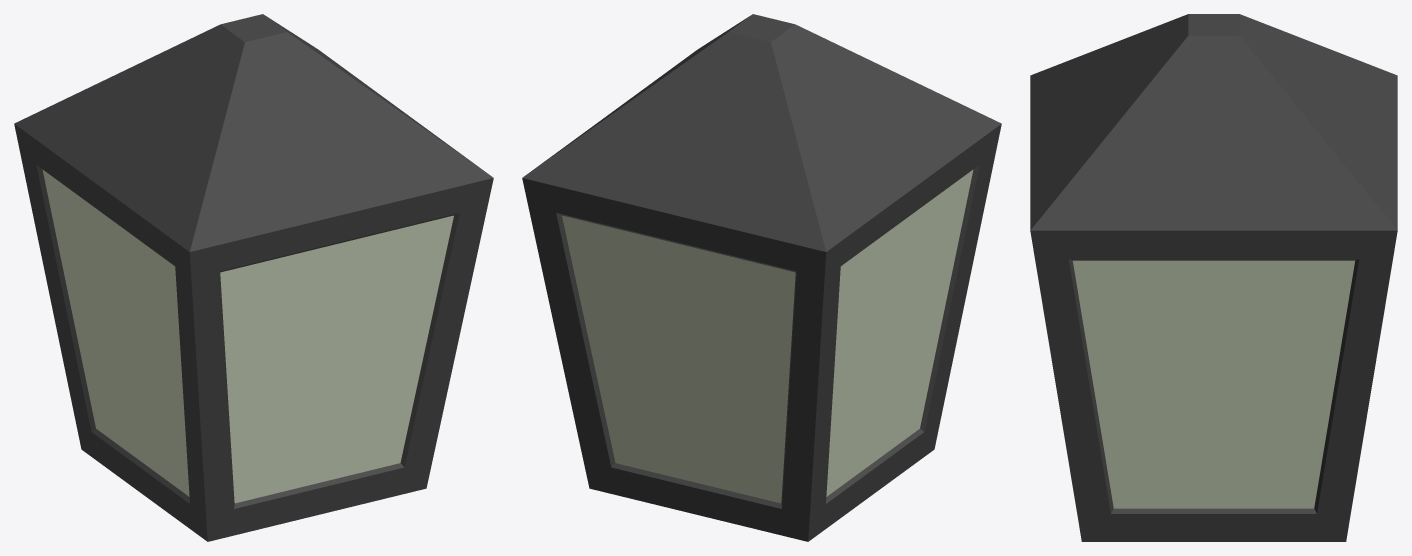
The model's file is lamp.glb.
3 views of the same model, side by side, from view 1: azimuth 30°, elevation 25°; view 2: azimuth 150°, elevation 25°; view 3: azimuth 270°, elevation 25° (orthographic). The views are drawn at different scales.
Visible parts, largest first — view 1: lamp; view 2: lamp; view 3: lamp.
Boxes of the visible parts, x1,y1,x2,y2 form: lamp: (14,14,493,541); lamp: (522,14,1001,541); lamp: (1030,14,1397,541).
Size of the model in its own units: 2 by 2.77 by 2.
